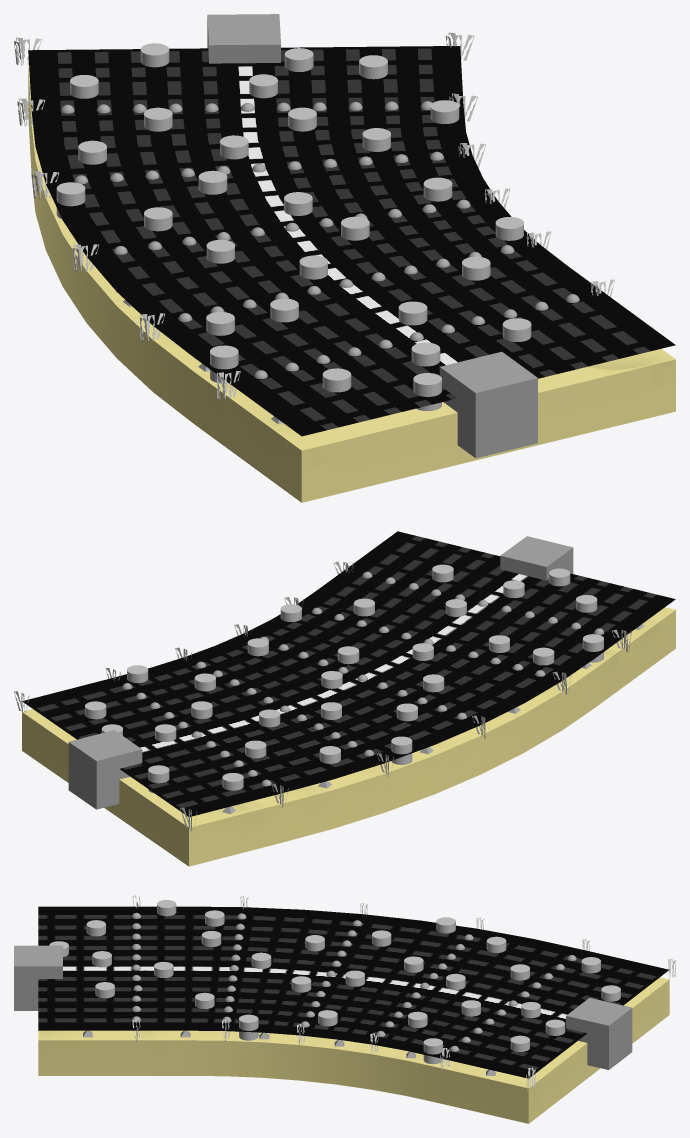
The model's file is assets010_Streckenteil_rechts002.fbx.
3 renders of one model, top to bottom at view 1: azimuth 30°, elevation 25°; view 2: azimuth 150°, elevation 25°; view 3: azimuth 270°, elevation 25°, orthographic. The views are drawn at different scales.
Parts seen in each view (by area): view 1: streckenteil_rechtskurve_indicator_geo, streckenteil_rechtskurve_geo2, startpoint, startpoint2, a (×2); view 2: streckenteil_rechtskurve_indicator_geo, streckenteil_rechtskurve_geo2, startpoint2, startpoint, b; view 3: streckenteil_rechtskurve_indicator_geo, streckenteil_rechtskurve_geo2, startpoint2, startpoint, a, b.
Part boxes in pixels (bbox=[...]): streckenteil_rechtskurve_indicator_geo: bbox=[28, 46, 675, 436]; streckenteil_rechtskurve_geo2: bbox=[28, 64, 675, 502]; startpoint: bbox=[439, 351, 537, 458]; startpoint2: bbox=[207, 14, 280, 63]; a (×2): bbox=[210, 345, 441, 411]; streckenteil_rechtskurve_indicator_geo: bbox=[22, 531, 675, 816]; streckenteil_rechtskurve_geo2: bbox=[22, 607, 675, 866]; startpoint2: bbox=[68, 730, 142, 809]; startpoint: bbox=[500, 536, 573, 580]; b: bbox=[391, 736, 412, 764]; streckenteil_rechtskurve_indicator_geo: bbox=[38, 906, 669, 1078]; streckenteil_rechtskurve_geo2: bbox=[38, 977, 669, 1123]; startpoint2: bbox=[566, 997, 632, 1069]; startpoint: bbox=[14, 945, 62, 1010]; a: bbox=[239, 1014, 258, 1040]; b: bbox=[423, 1038, 442, 1064].
Size of the model in its own units: 43.63 by 6.5 by 67.6.
